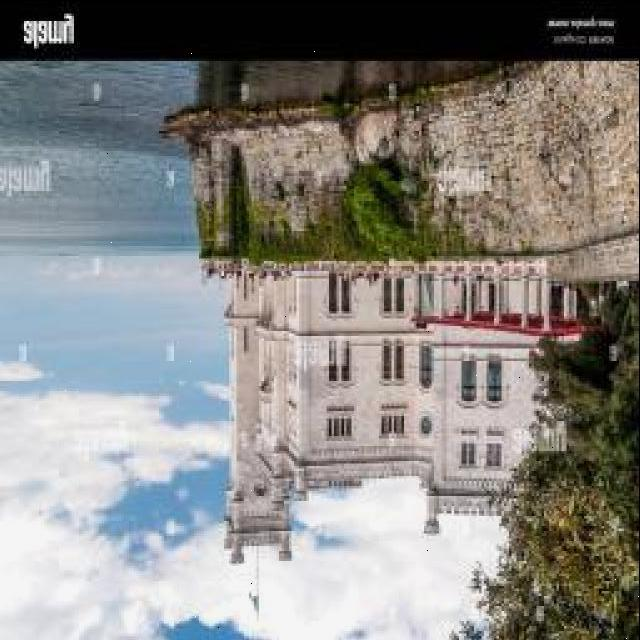vegetation: (456, 281, 638, 638), (183, 175, 489, 257)
